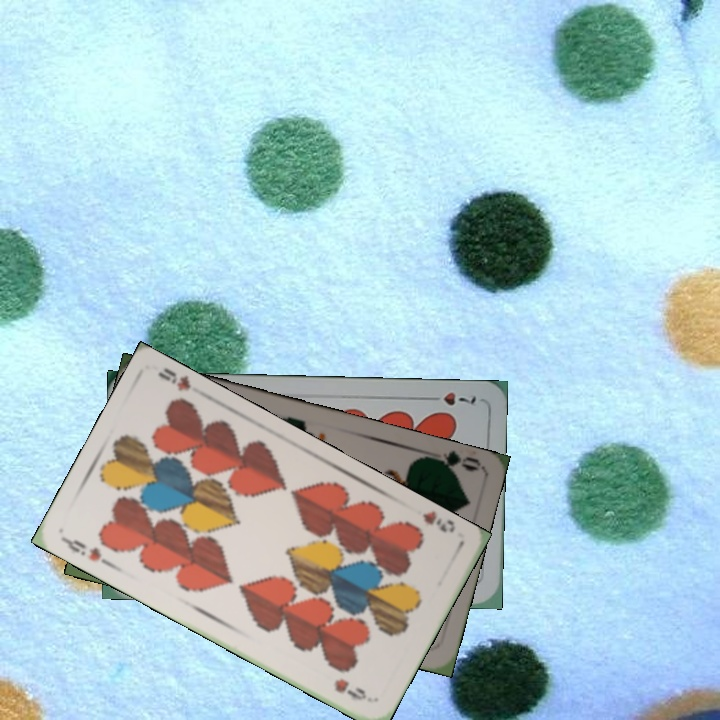GO: (421, 447, 482, 477)
H7: (422, 388, 479, 408)
H9: (60, 534, 104, 565), (418, 508, 458, 536)
